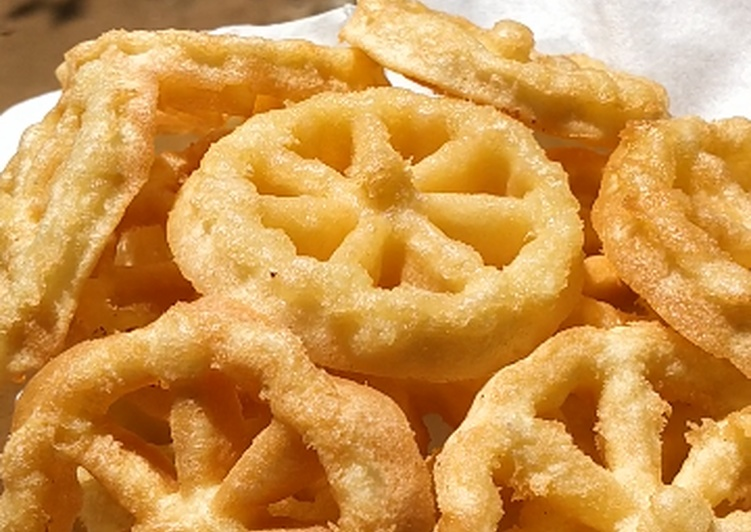kembang_goyang: (160, 66, 574, 381)
